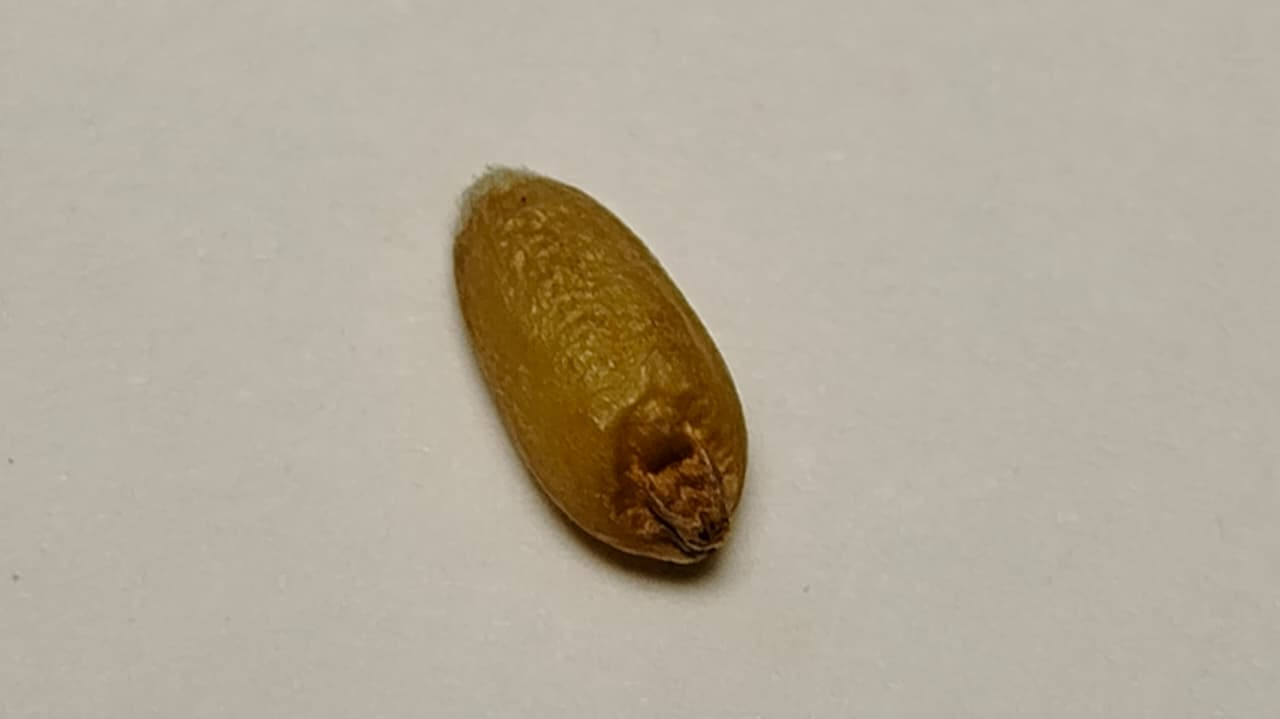healthy: (455, 170, 746, 563)
